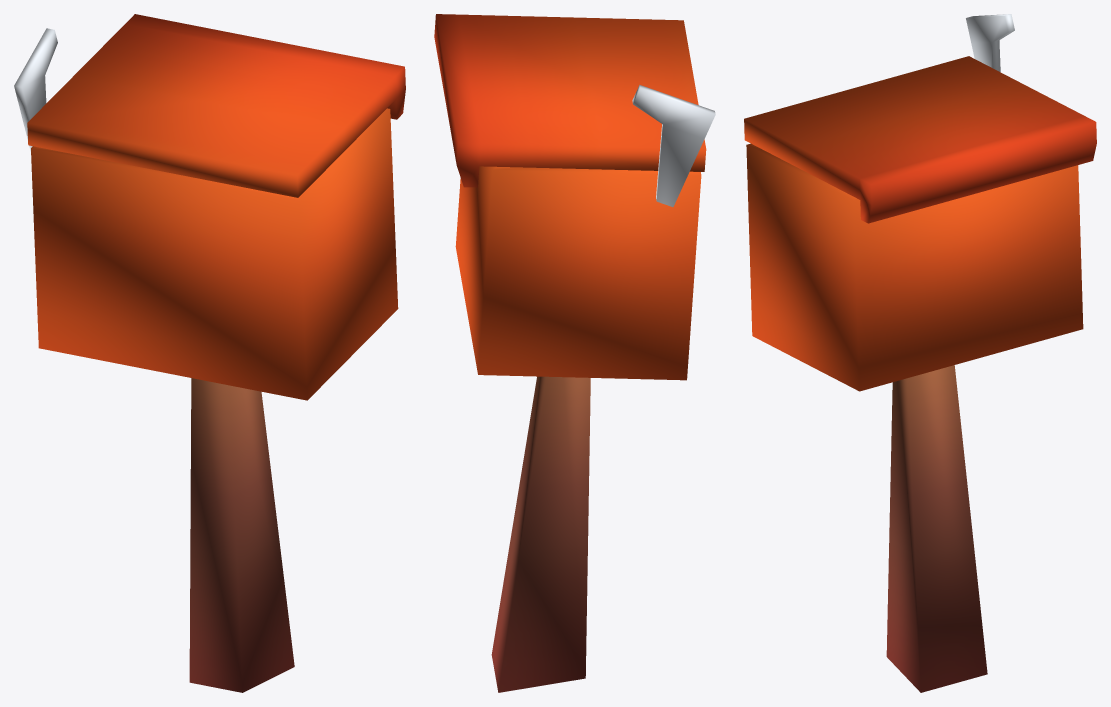
Rendered from mailbox.fbx.
3 renders of one model, left to right at view 1: azimuth 30°, elevation 25°; view 2: azimuth 150°, elevation 25°; view 3: azimuth 270°, elevation 25°, orthographic. The views are drawn at different scales.
Parts seen in each view (by area): view 1: Cylinder.012; view 2: Cylinder.012; view 3: Cylinder.012.
Part boxes in pixels (x1=…): Cylinder.012: x1=14, y1=14, x2=405, y2=692; Cylinder.012: x1=434, y1=14, x2=715, y2=692; Cylinder.012: x1=744, y1=14, x2=1096, y2=692.
Size of the model in its own units: 14.12 by 26.12 by 14.12.
